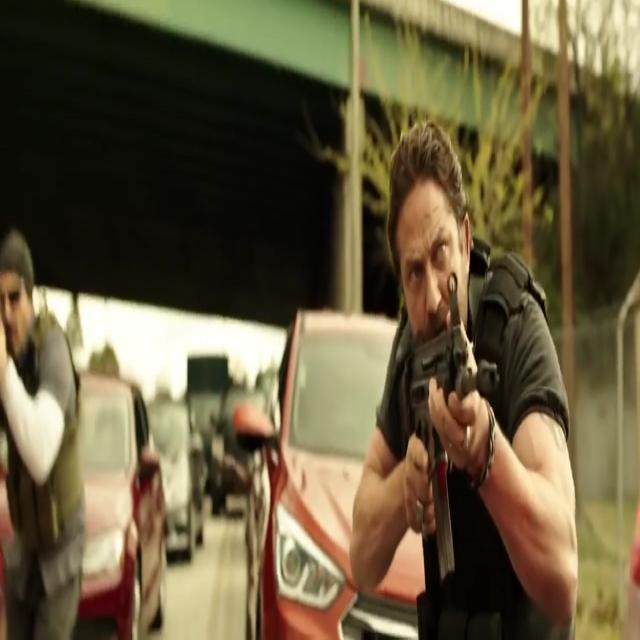Weapon: (395, 264, 507, 540)
